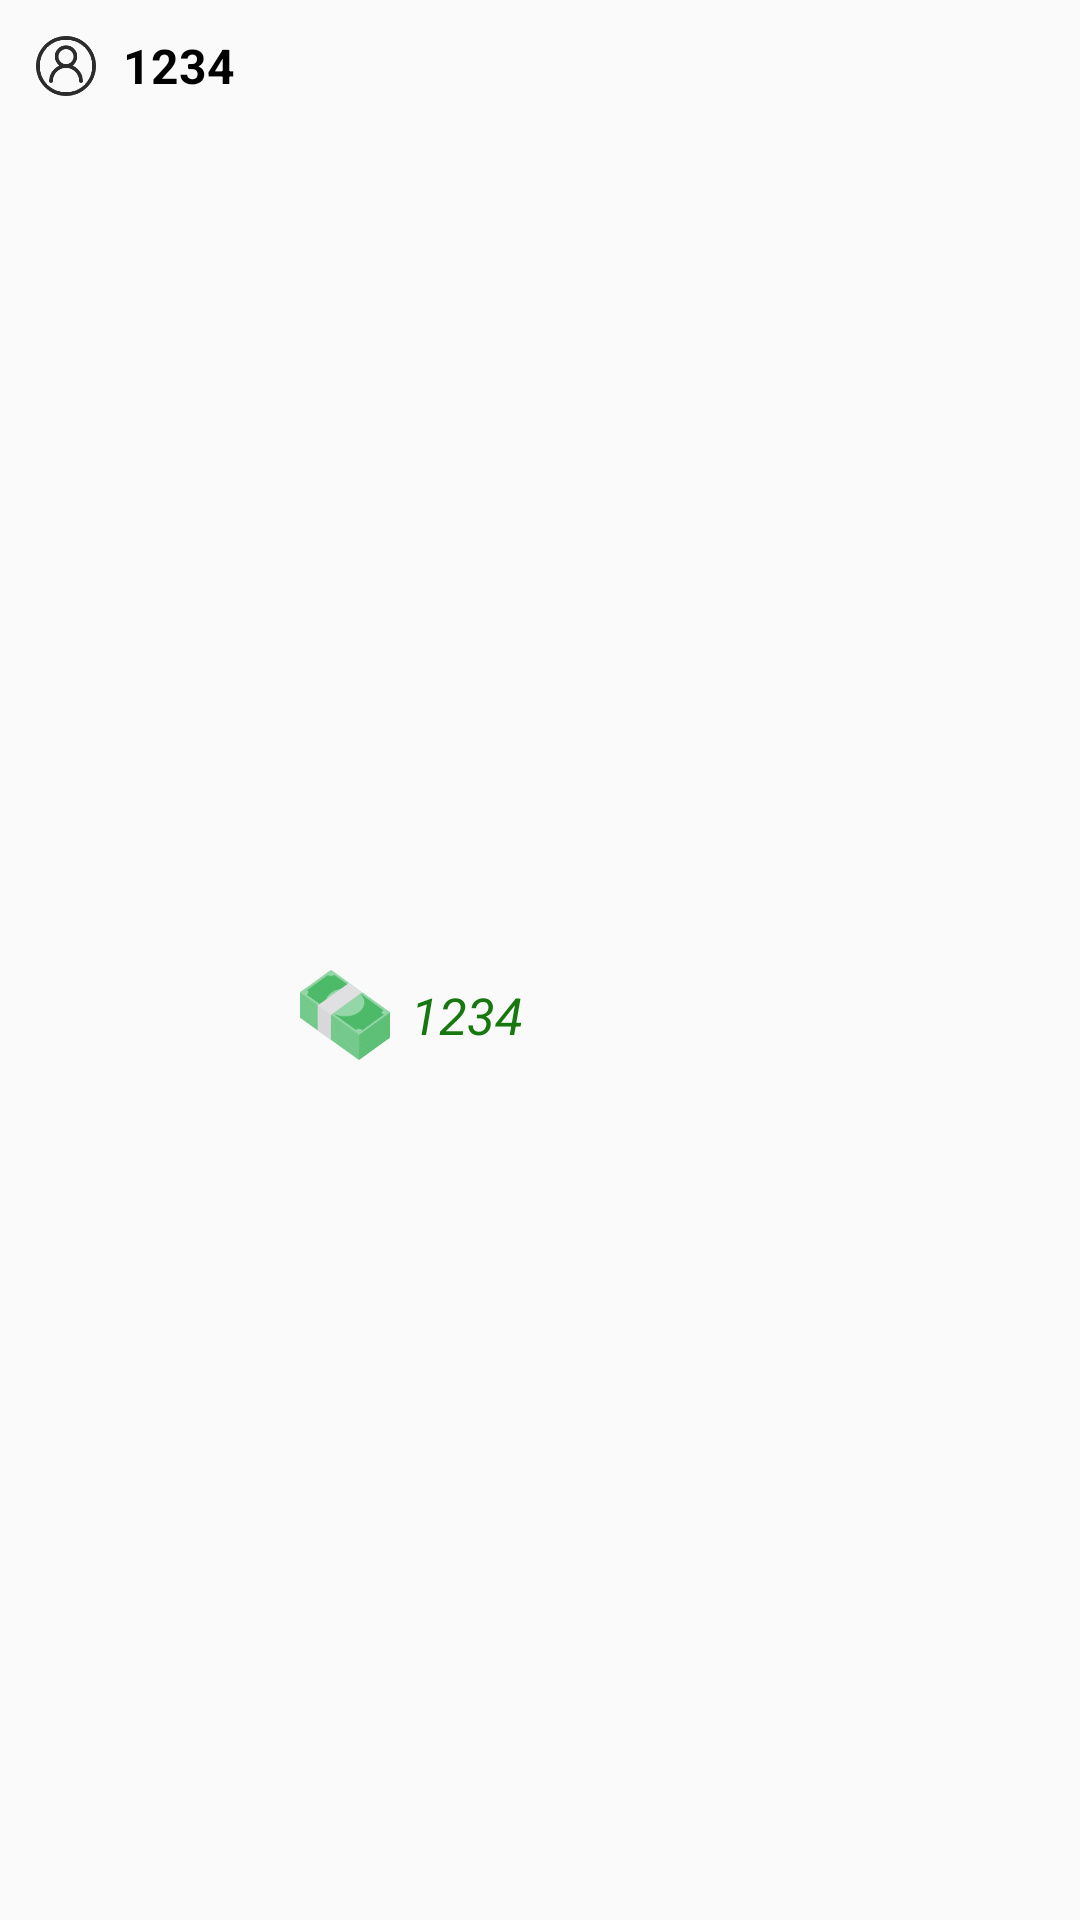

Screen size 1080 x 1920. Icon name, then its box in pixels as bbox=(x1, y1, x2, y2):
money: bbox=(300, 970, 390, 1060)
user: bbox=(36, 36, 96, 96)
